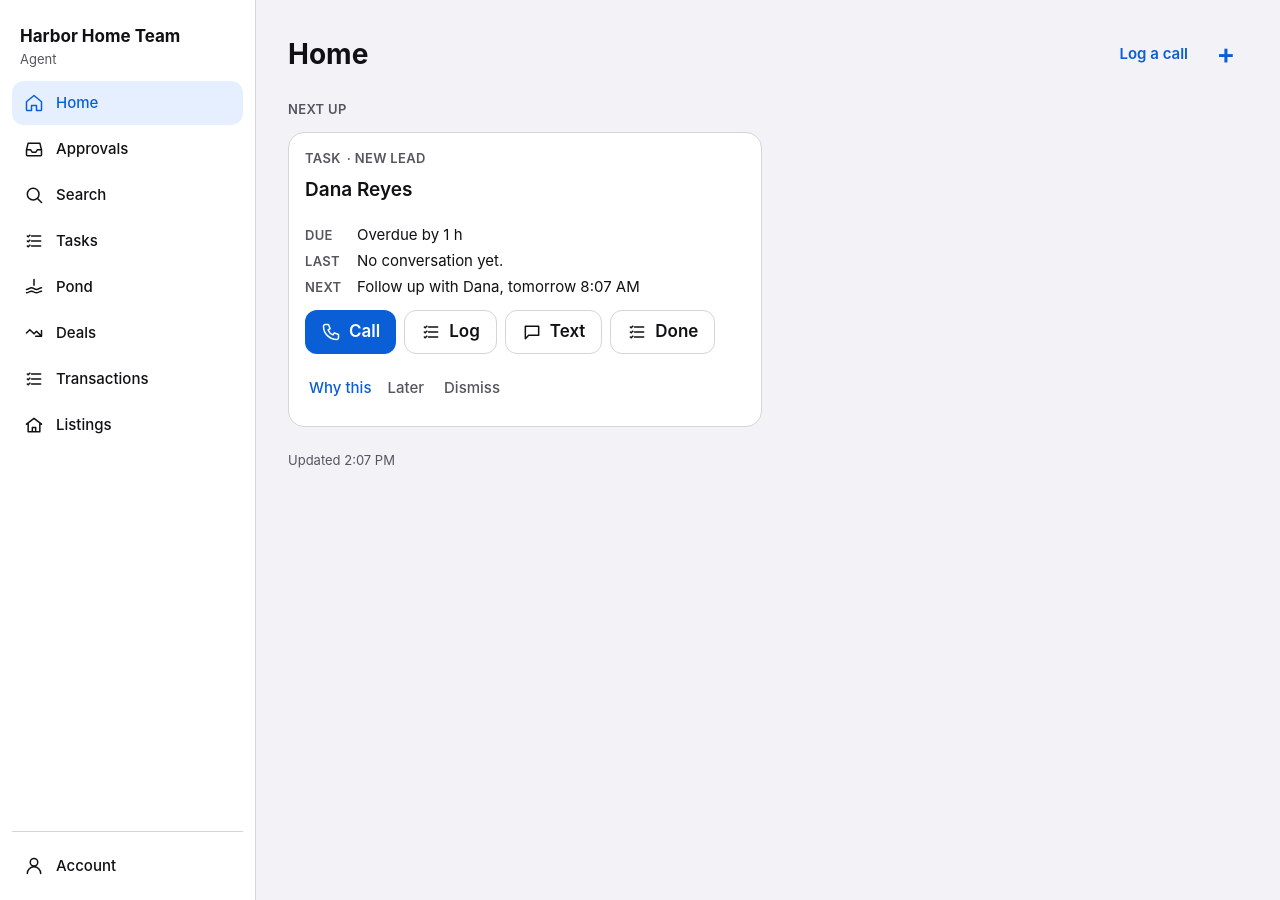
Test: M3 (R-TODAY-11): a task that is not due is never closed; the sheet says the person will have two follow-ups › E881: a follow-up due tomorrow: left open, and said before the tap
The width and height of the screenshot is (1280, 900).
Click the button with aria-label "Log for Dana Reyes". click: (450, 332)
box: [404,310,497,354]
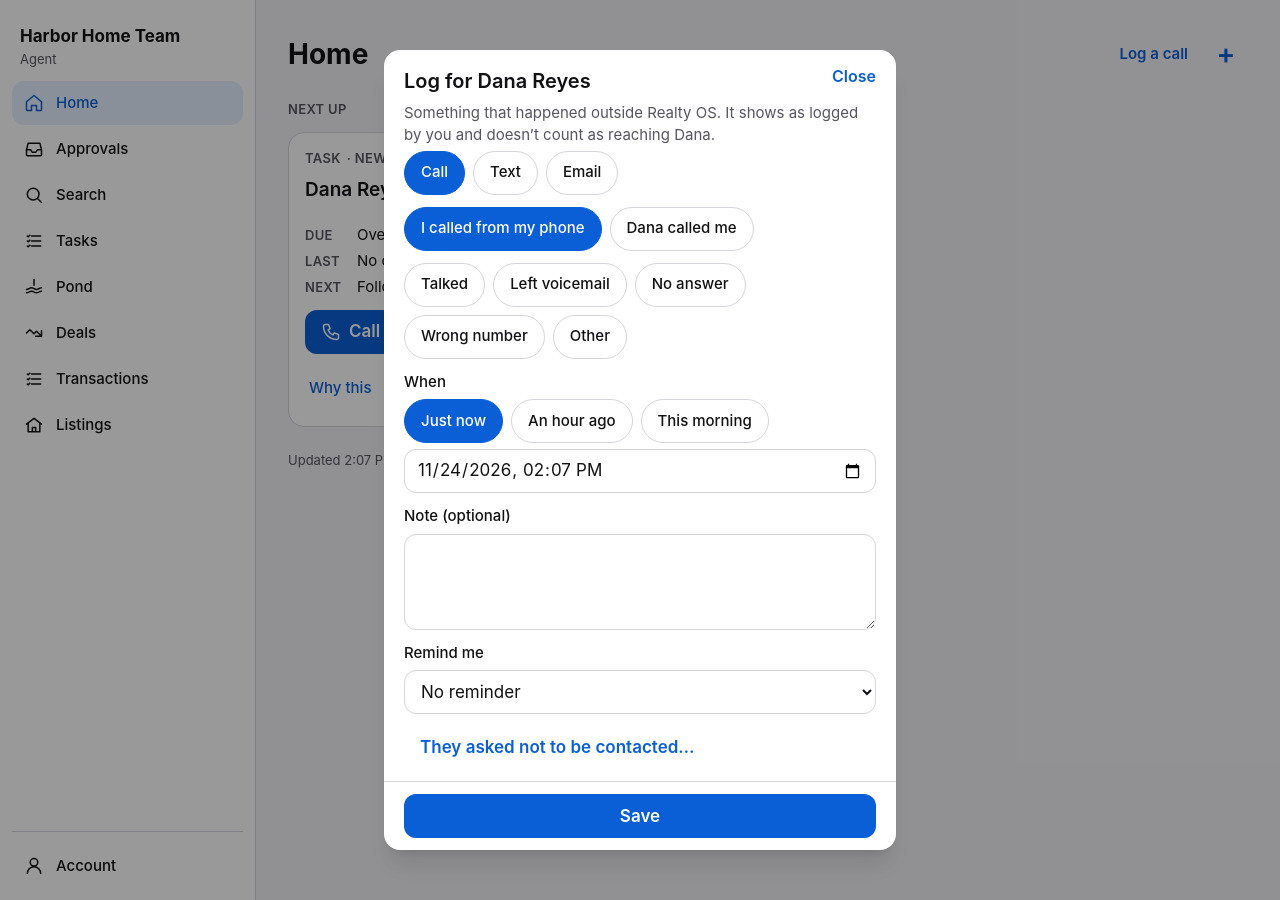
Click the button "Left voicemail". click: (560, 285)
box: [493,263,627,307]
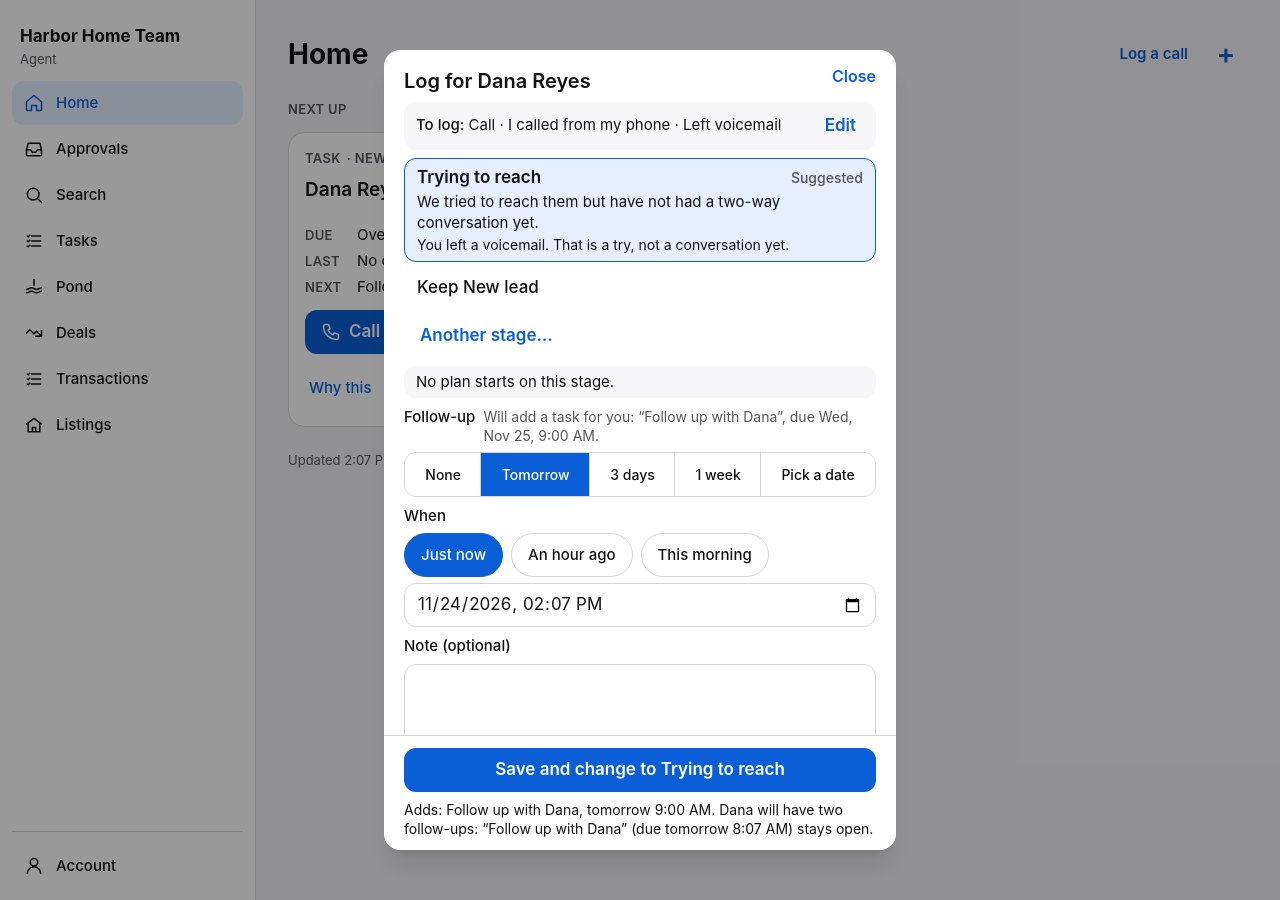
expect the text with test id "tap-effects" does not show "Marks done": met, box [404,800,876,838]
expect the button with test id "log-save" is enabled: met
expect the radio button labelled "Suggested" is shown: met, box [404,158,876,262]
Click the button with test id "log-save". click: (640, 770)
box: [404,748,876,792]
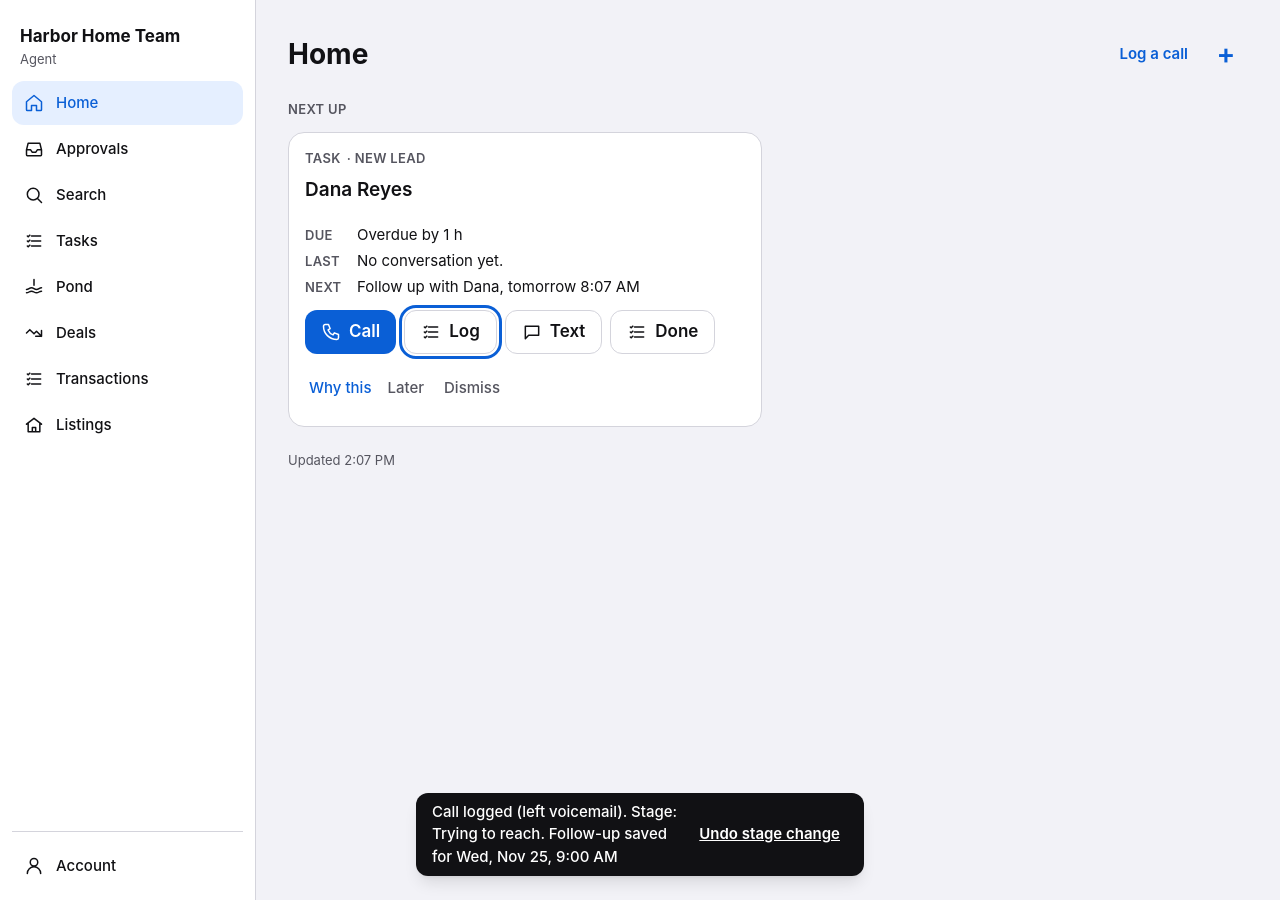
expect the dialog is gone: met
